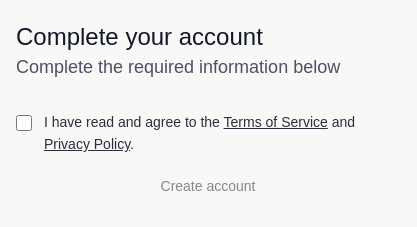
Test case: SignInPage › does not finalize when consent is accepted but requirements remain
The width and height of the screenshot is (417, 227).
Expected: the heading "Complete your account" is shown, top-left (16, 23), bottom-right (263, 50)
Click the checkbox: point(24, 122) top-left (16, 114), bottom-right (32, 130)
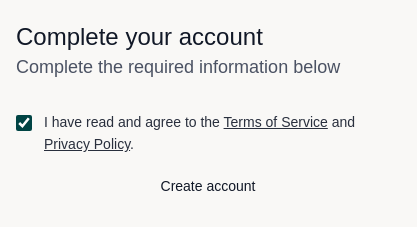
Expected: the button "Create account" is enabled
Click the button "Create account": point(208, 186) top-left (16, 176), bottom-right (400, 196)
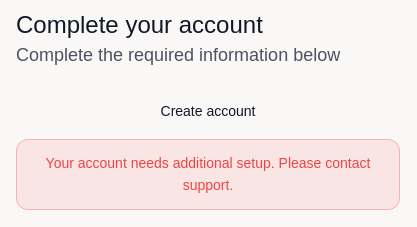
Expected: the message reads "Your account needs additional setup. Please contact support.", top-left (46, 154), bottom-right (370, 193)
